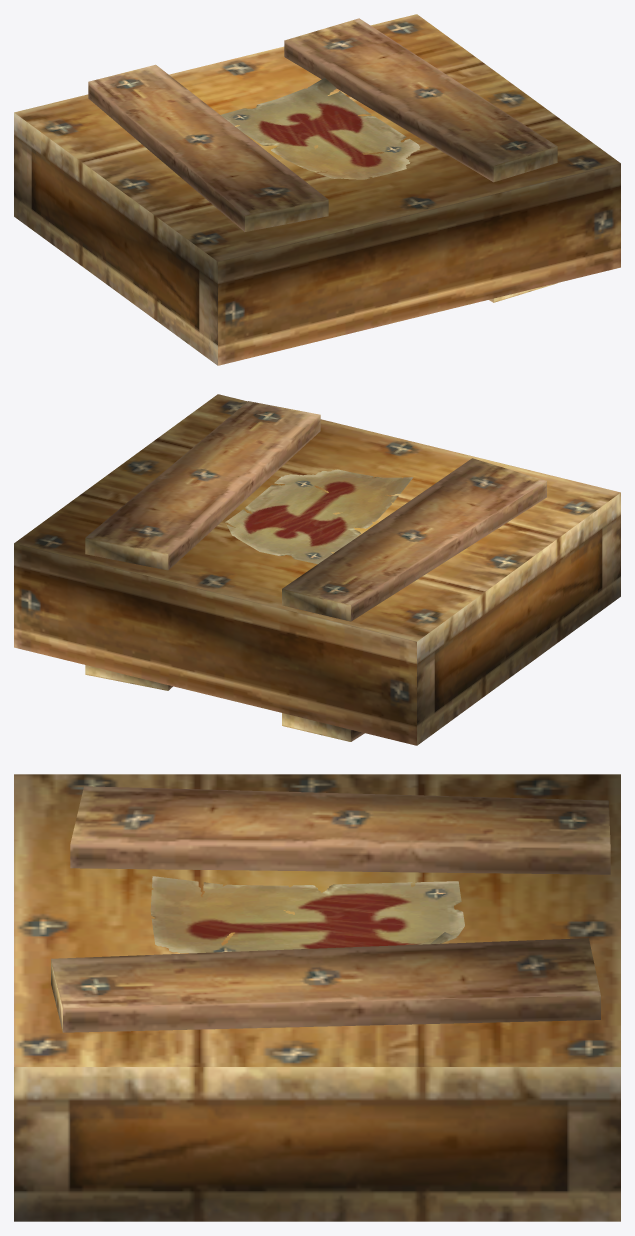
The model's file is weaponcratehordeaxe.obj.
The picture shows the model from 3 angles, top to bottom: view 1: azimuth 30°, elevation 25°; view 2: azimuth 150°, elevation 25°; view 3: azimuth 270°, elevation 25°; orthographic projection. The views are drawn at different scales.
Parts seen in each view (by area): view 1: WEAPONCRATEHORDEAXE0; view 2: WEAPONCRATEHORDEAXE0; view 3: WEAPONCRATEHORDEAXE0.
Part boxes in pixels (left/top/right/bottom): WEAPONCRATEHORDEAXE0: left=14, top=14, right=620, bottom=365; WEAPONCRATEHORDEAXE0: left=14, top=394, right=620, bottom=745; WEAPONCRATEHORDEAXE0: left=14, top=774, right=620, bottom=1221.
Bounding box in the file's own units: 1.98 × 0.6453 × 1.74.
Materials: 1 (1 with a texture image).
